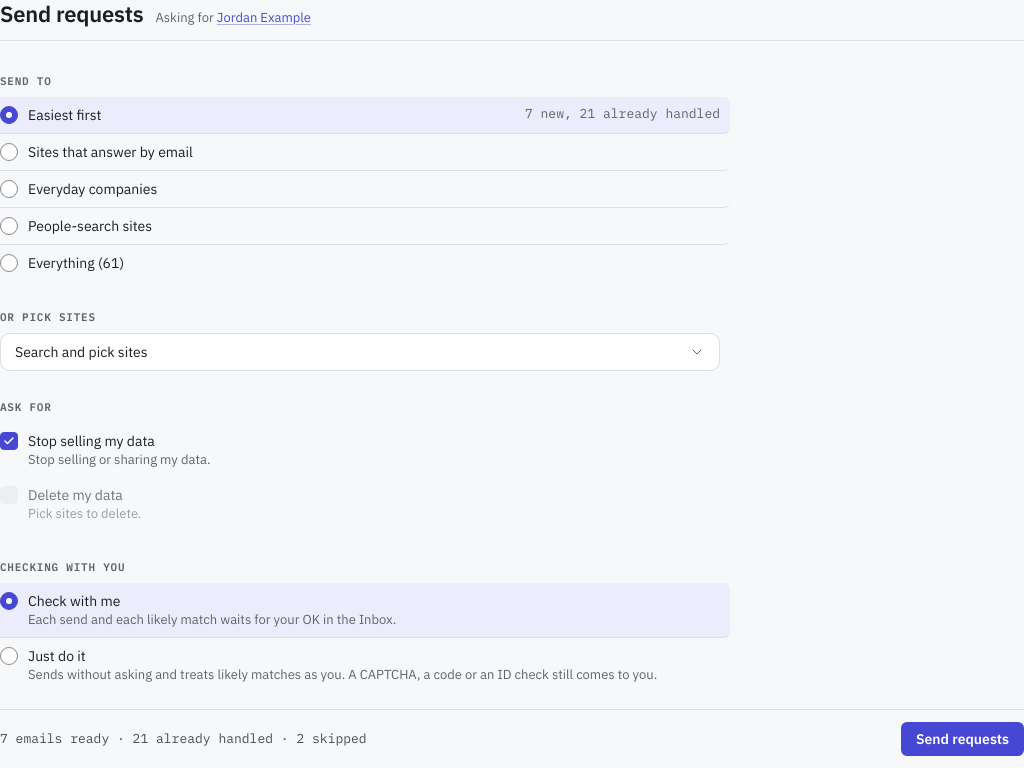
Test case: the campaign builder › labels the confirm dialog rows in plain words
Click the radio button labelled "Sites that answer by email" at (9, 152), box [0, 143, 18, 161]
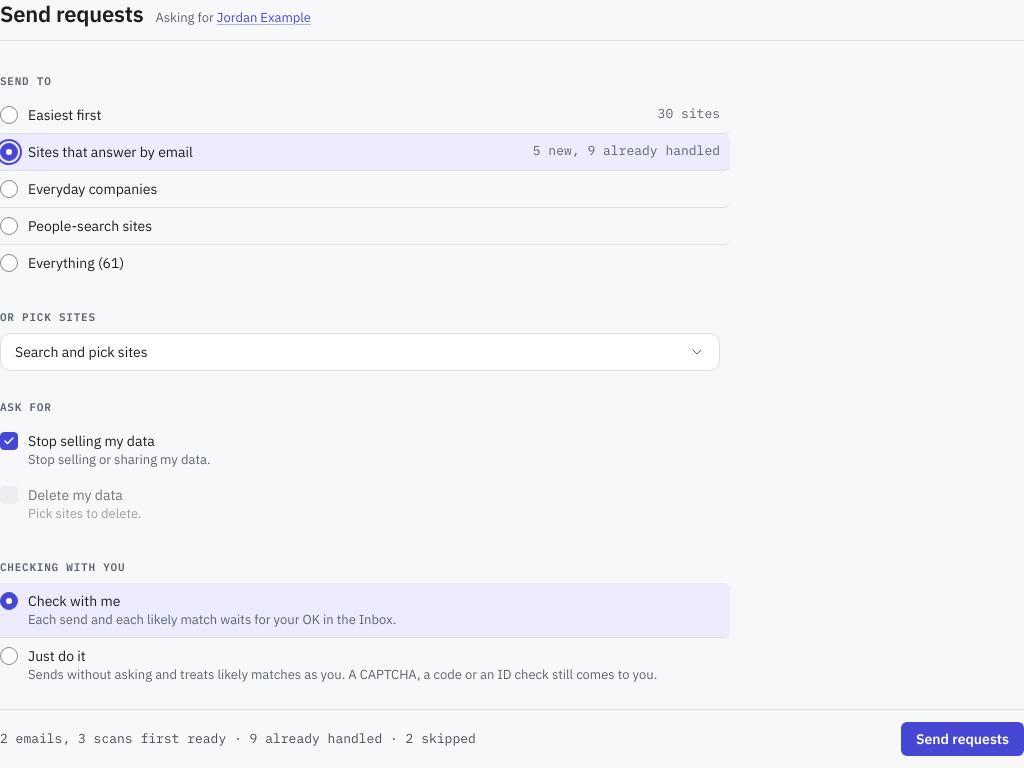
Click the button "Send requests" at (962, 739), box [901, 722, 1023, 756]
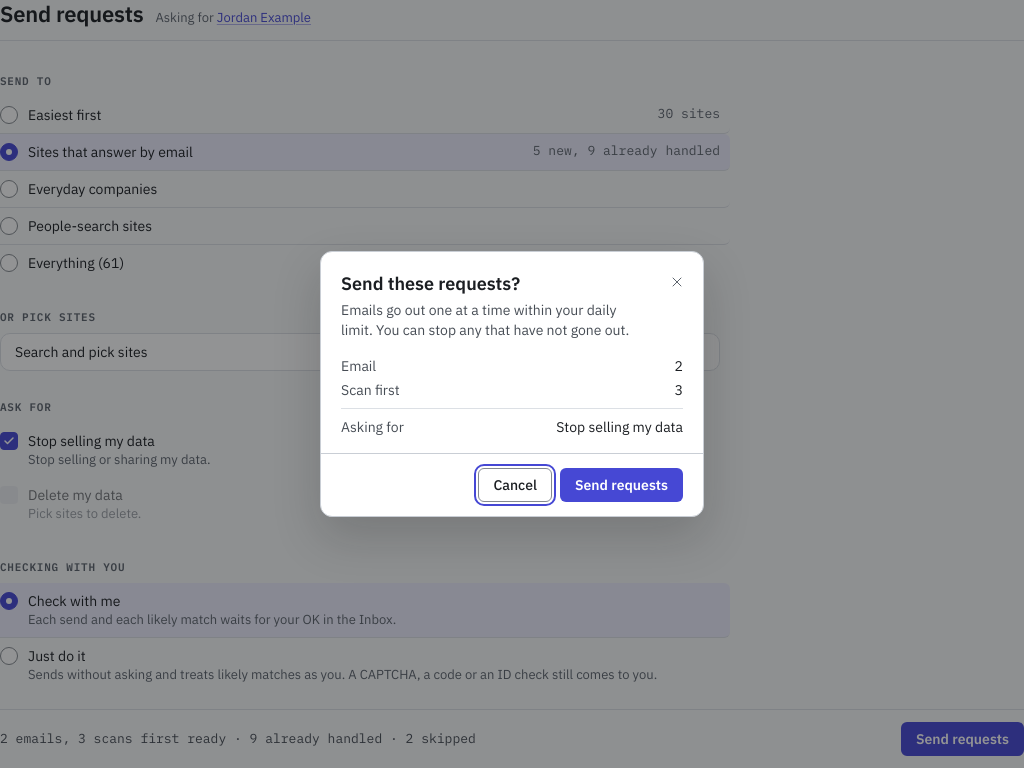
Expected: the text "Asking for" is shown, [341, 417, 404, 437]
Expected: the text "Stop selling my data" is shown, [556, 417, 683, 437]
